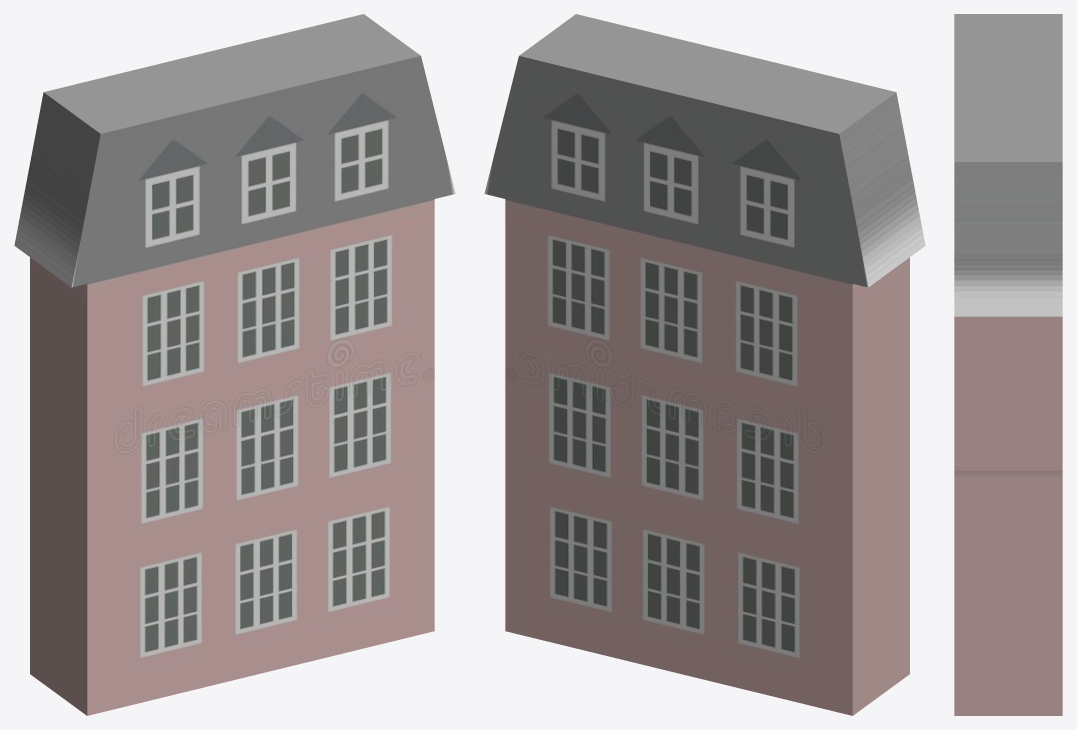
The picture shows the model from 3 angles, left to right: view 1: azimuth 30°, elevation 25°; view 2: azimuth 150°, elevation 25°; view 3: azimuth 270°, elevation 25°; orthographic projection. The views are drawn at different scales.
Visible parts, largest first — view 1: city-town-house-vector-facade-face-side-street-view-city-mod; view 2: city-town-house-vector-facade-face-side-street-view-city-mod; view 3: city-town-house-vector-facade-face-side-street-view-city-mod.
Part boxes in pixels (bbox=[...]): city-town-house-vector-facade-face-side-street-view-city-mod: bbox=[14, 14, 455, 715]; city-town-house-vector-facade-face-side-street-view-city-mod: bbox=[484, 14, 925, 715]; city-town-house-vector-facade-face-side-street-view-city-mod: bbox=[954, 14, 1062, 715].
Bounding box in the file's own units: 46.26 × 66.62 × 11.93.
